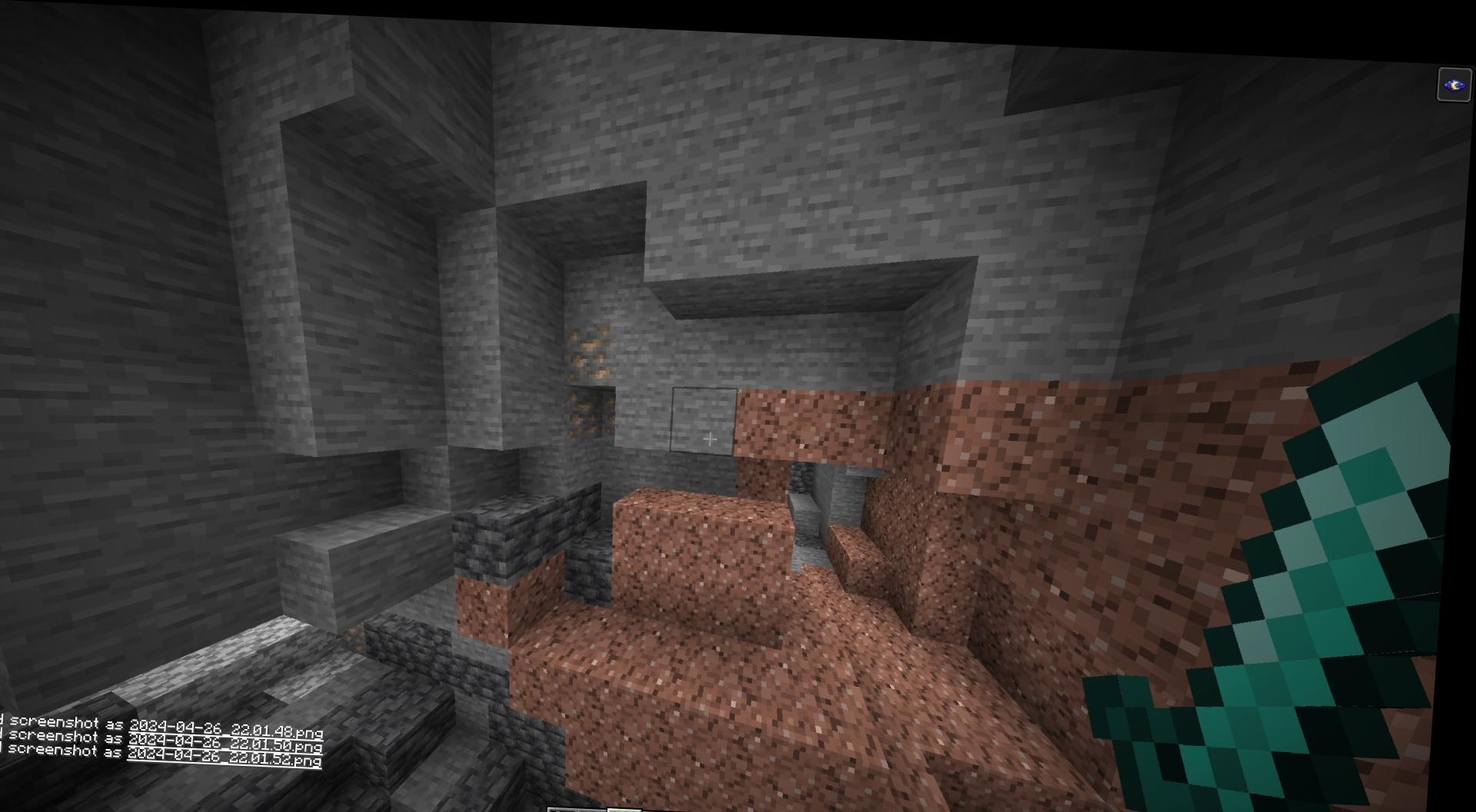iron ore: (570, 376, 628, 433), (570, 322, 617, 370)
